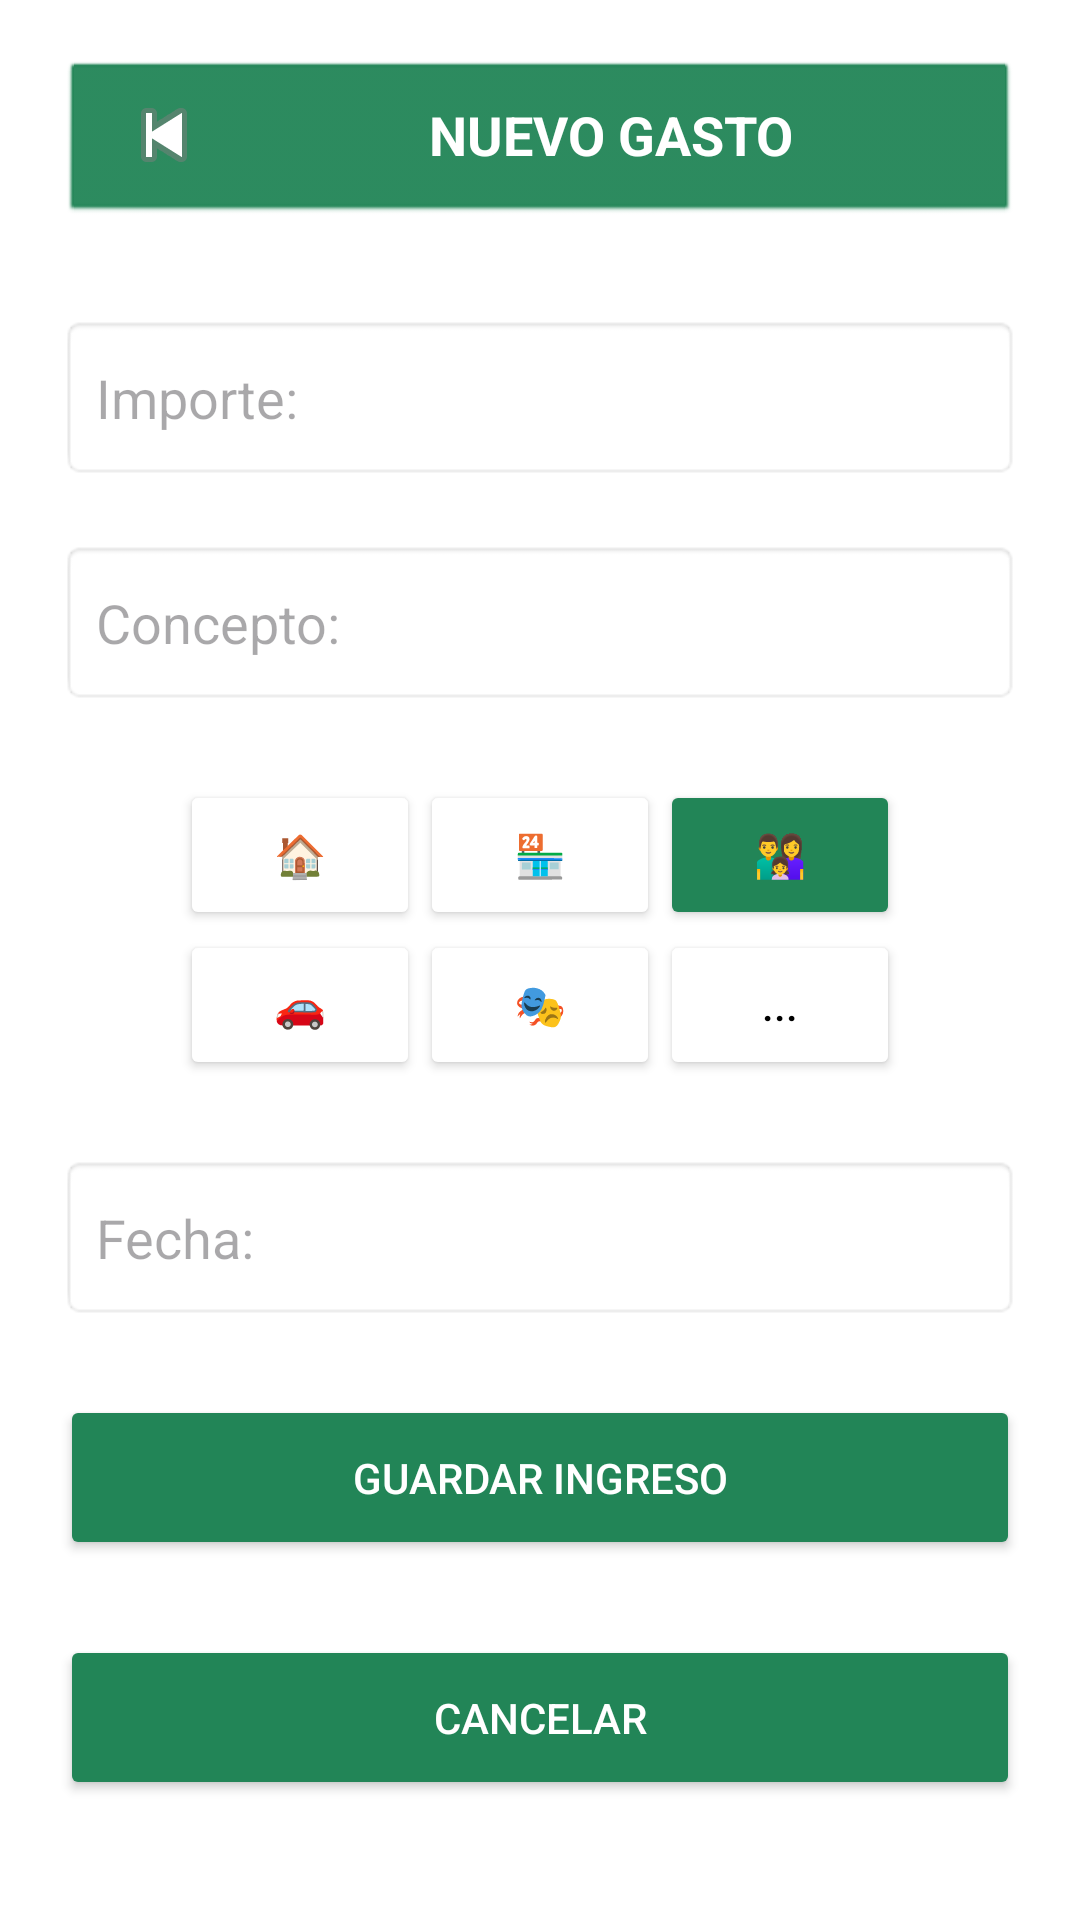

Icons on this 1080w x 1920h Android screen, each with the point to tap as [x,y]:
previous: [164,135]
